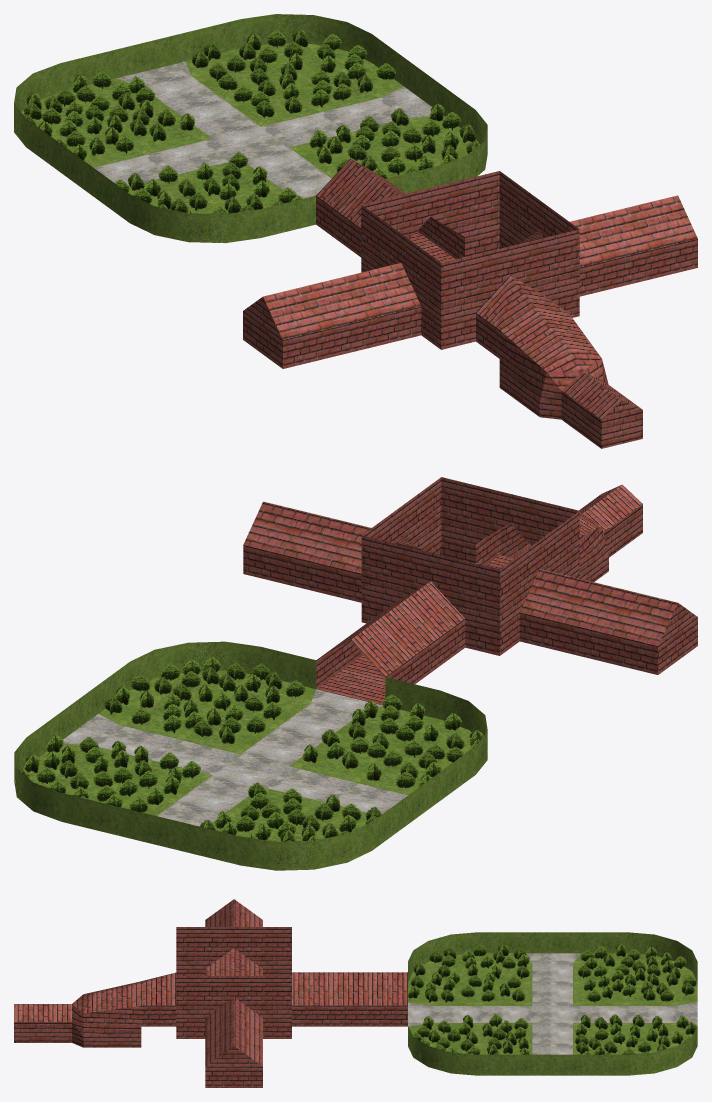
The model's file is map.obj.
3 views of the same model, one above another, from view 1: azimuth 30°, elevation 25°; view 2: azimuth 150°, elevation 25°; view 3: azimuth 270°, elevation 25° (orthographic). The views are drawn at different scales.
Parts seen in each view (by area): view 1: Map, Map.001, Bushes; view 2: Map, Map.001, Bushes; view 3: Map, Map.001, Bushes.
Part boxes in pixels (<box>): Map: <box>243,158,697,448</box>; Map.001: <box>14,14,487,243</box>; Bushes: <box>23,29,479,219</box>; Map: <box>243,477,697,705</box>; Map.001: <box>14,641,487,870</box>; Bushes: <box>15,656,483,841</box>; Map: <box>14,899,407,1087</box>; Map.001: <box>408,932,697,1075</box>; Bushes: <box>408,943,696,1070</box>.
Bounding box in the file's own units: 30 × 8 × 59.04.
